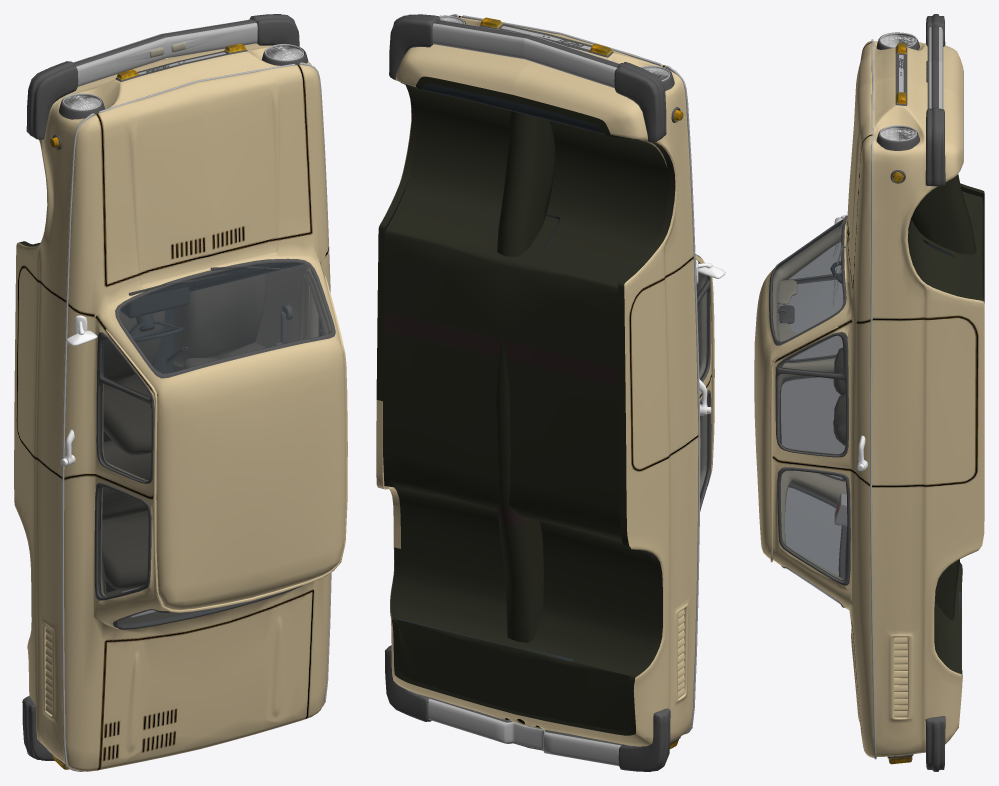
File: ZAZ968M_body.obj
The picture shows the model from 3 angles, left to right: view 1: azimuth 30°, elevation 25°; view 2: azimuth 150°, elevation 25°; view 3: azimuth 270°, elevation 25°; orthographic projection. The views are drawn at different scales.
Visible parts, largest first — view 1: Empty_Mesh_Сіть.001; view 2: Empty_Mesh_Сіть.001; view 3: Empty_Mesh_Сіть.001.
Boxes of the visible parts, x1,y1,x2,y2 form: Empty_Mesh_Сіть.001: (14, 14, 347, 771); Empty_Mesh_Сіть.001: (376, 14, 725, 771); Empty_Mesh_Сіть.001: (754, 14, 984, 771).
Bounding box in the file's own units: 1.6 × 3.76 × 1.19.
21 materials, 21 textured.
